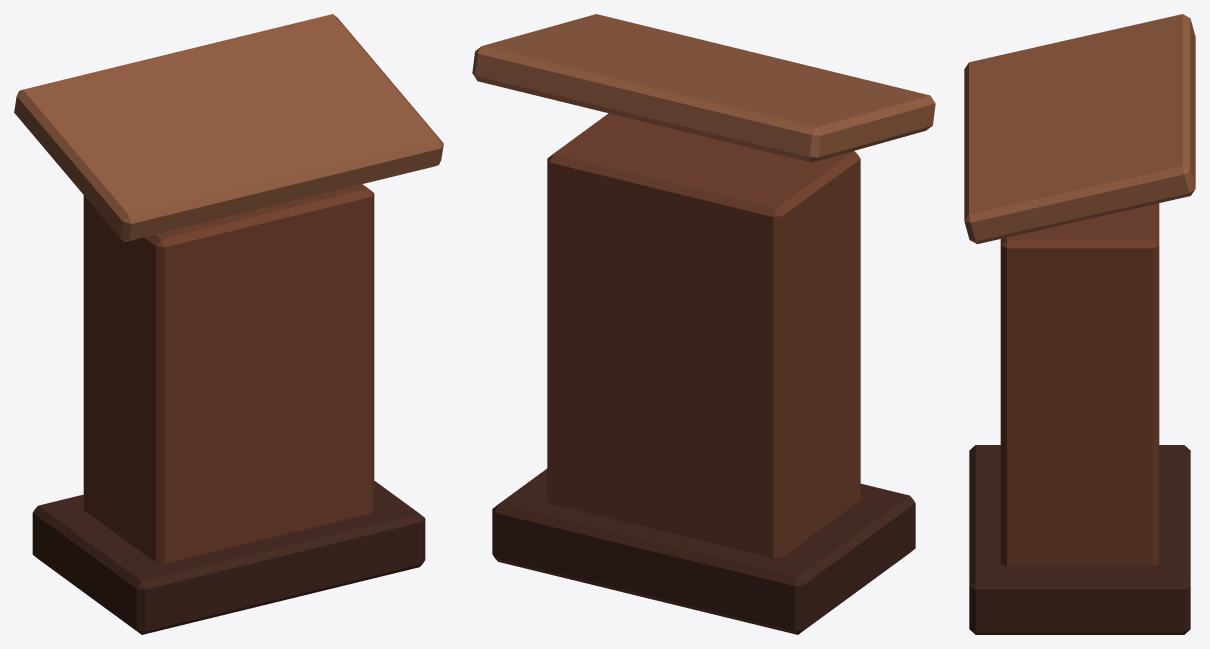
Rendered from lectern_01.glb.
3 views of the same model, side by side, from view 1: azimuth 30°, elevation 25°; view 2: azimuth 150°, elevation 25°; view 3: azimuth 270°, elevation 25° (orthographic). The views are drawn at different scales.
Visible parts, largest first — view 1: Pedestal, Slope, Foot; view 2: Pedestal, Slope, Foot; view 3: Pedestal, Slope, Foot.
Part boxes in pixels (x1,y1,x2,y2): Pedestal: (83, 184, 374, 563); Slope: (14, 14, 443, 241); Foot: (32, 481, 425, 634); Pedestal: (547, 113, 860, 558); Slope: (472, 14, 935, 162); Foot: (492, 468, 915, 634); Pedestal: (1000, 203, 1159, 566); Slope: (964, 14, 1195, 244); Foot: (969, 445, 1190, 634).
Size of the model in its own units: 0.88 by 1.24 by 0.5458.
